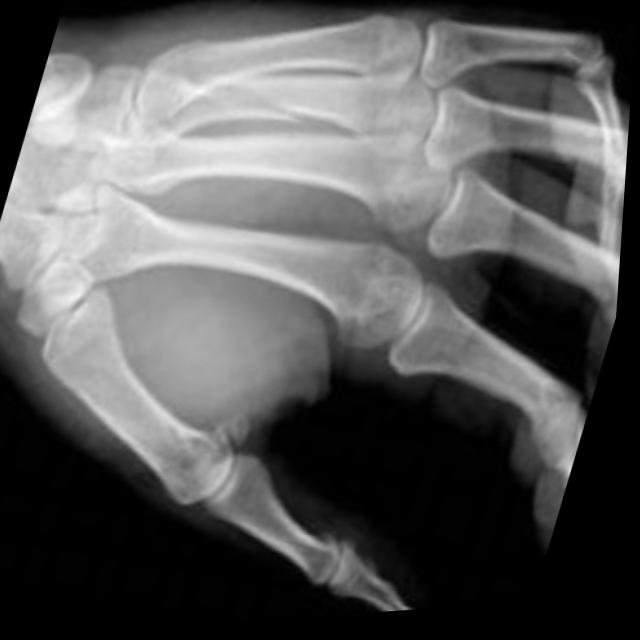fracture: (258, 91, 317, 140)
